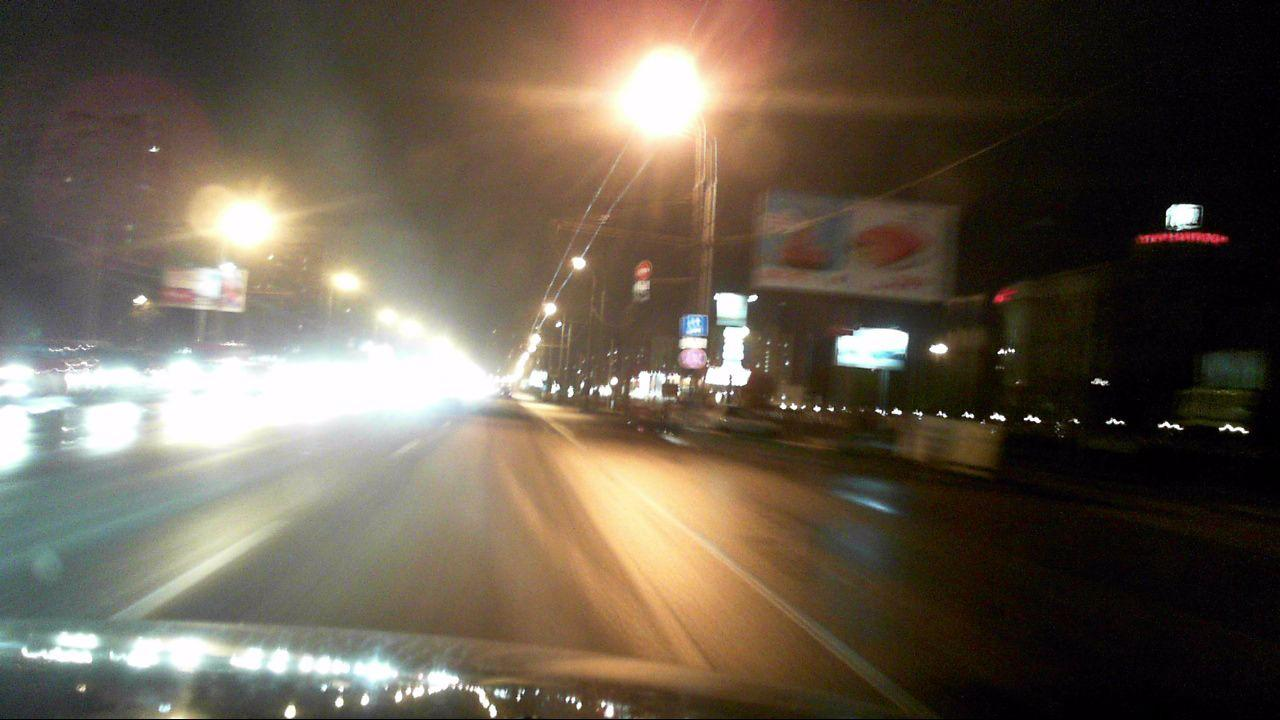3_1: (634, 259, 653, 281)
3_27: (679, 348, 708, 370)
5_14_1: (684, 314, 708, 337)
